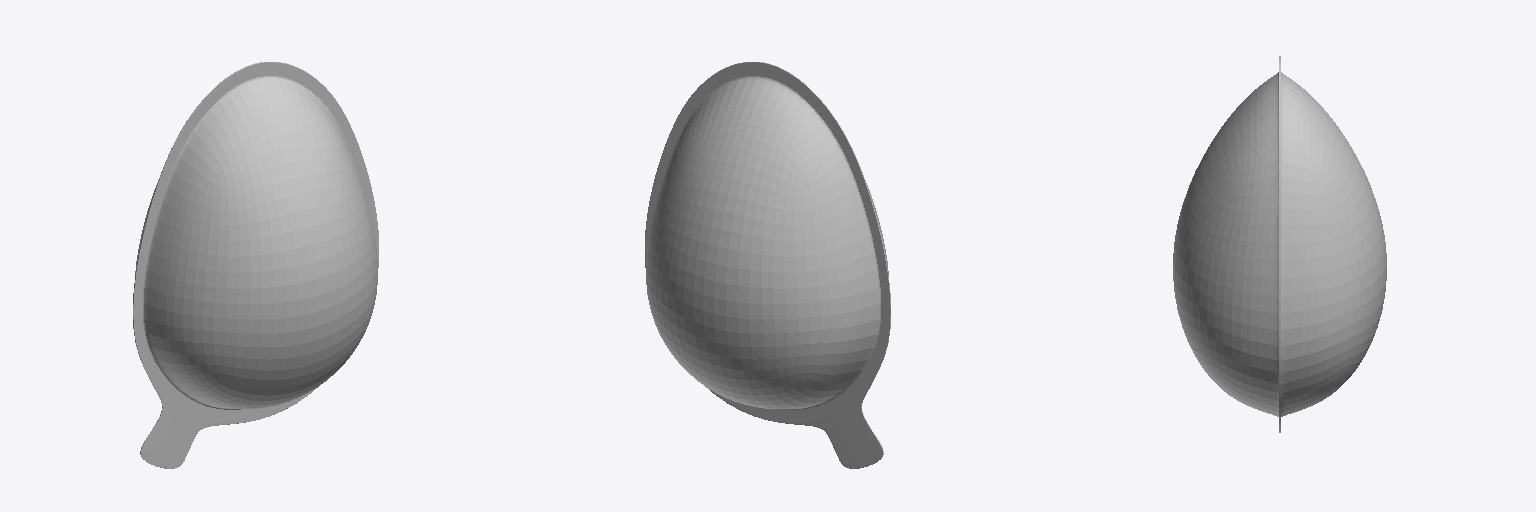
Rendered from chocolate_gift.obj.
3 renders of one model, left to right at view 1: azimuth 30°, elevation 25°; view 2: azimuth 150°, elevation 25°; view 3: azimuth 270°, elevation 25°, orthographic.
Visible parts, largest first — view 1: chocolate_gift_00; view 2: chocolate_gift_01; view 3: chocolate_gift_00, chocolate_gift_01.
Boxes of the visible parts, box(x1,y1,x2,y2) form: chocolate_gift_00: box(133, 62, 378, 468); chocolate_gift_01: box(645, 62, 890, 468); chocolate_gift_00: box(1173, 56, 1279, 432); chocolate_gift_01: box(1280, 56, 1386, 432).
Size of the model in its own units: 8.03 by 12 by 6.04.